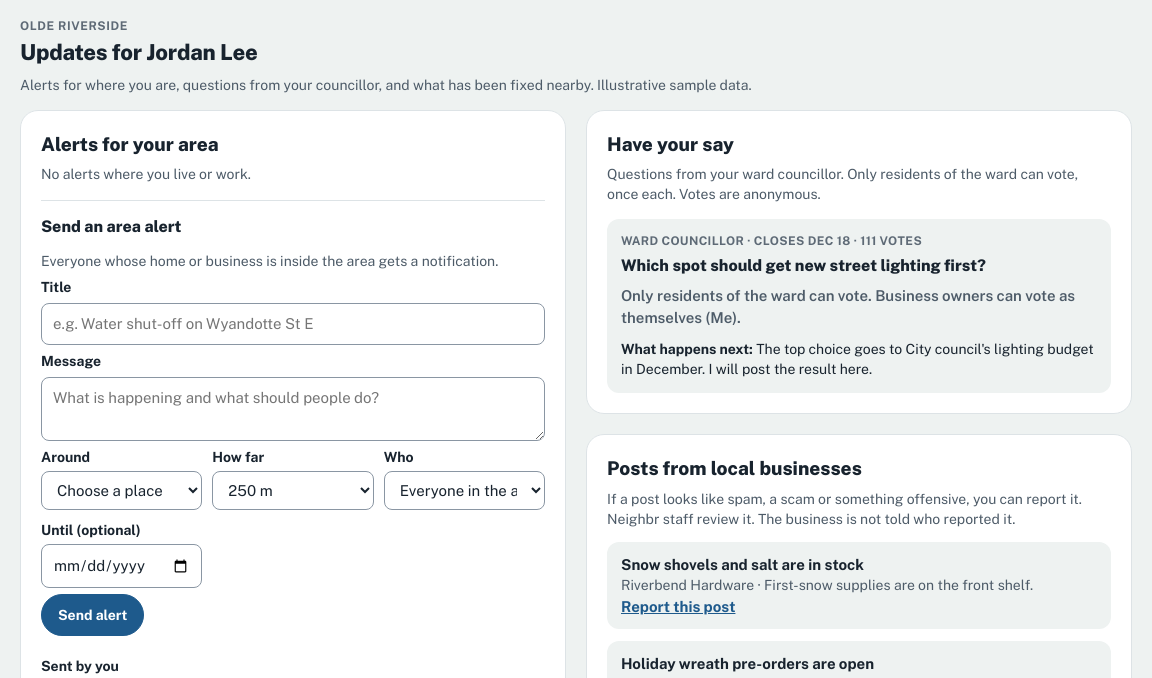
Scenario: Updates page › the City lead sends an area alert and sees how many it reaches
The image size is (1152, 678).
Expected: the heading "Send an area alert" is shown, [41, 217, 181, 236]
Type "Water shut-off" into the field labelled "Title".
click(293, 324); type("Water shut-off")  # box [41, 303, 545, 345]
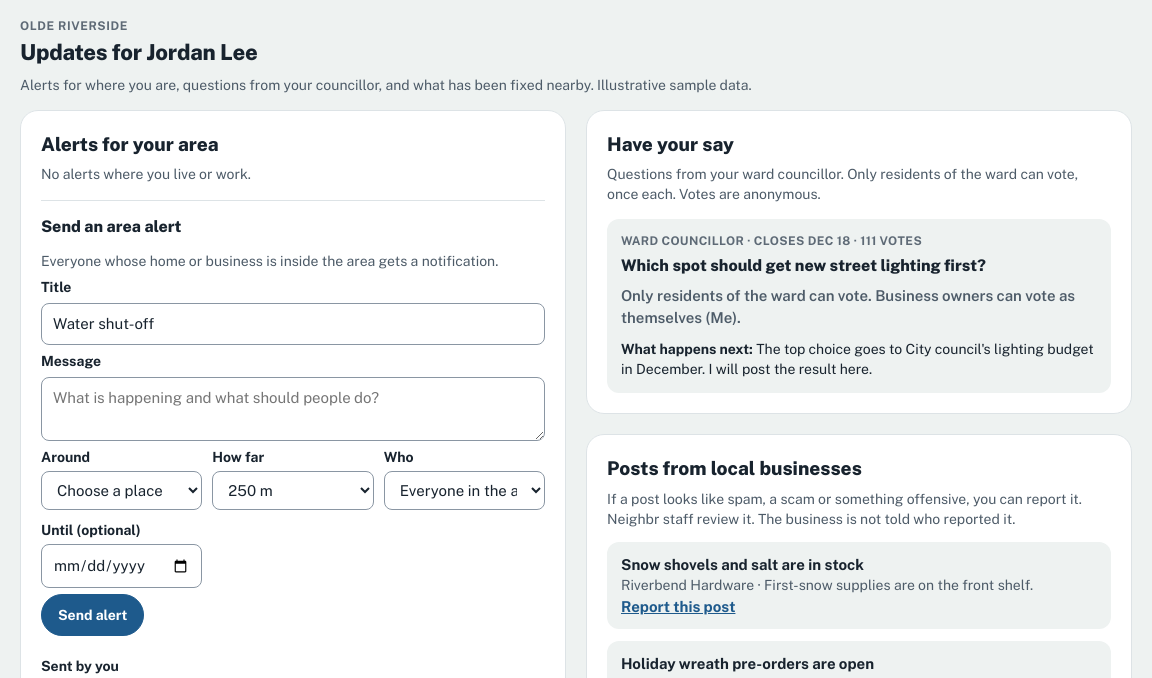
Type "No water from 9 am to 2 pm for repairs." into the text box labelled "Message".
click(293, 409); type("No water from 9 am to 2 pm for repairs.")  # box [41, 377, 545, 441]
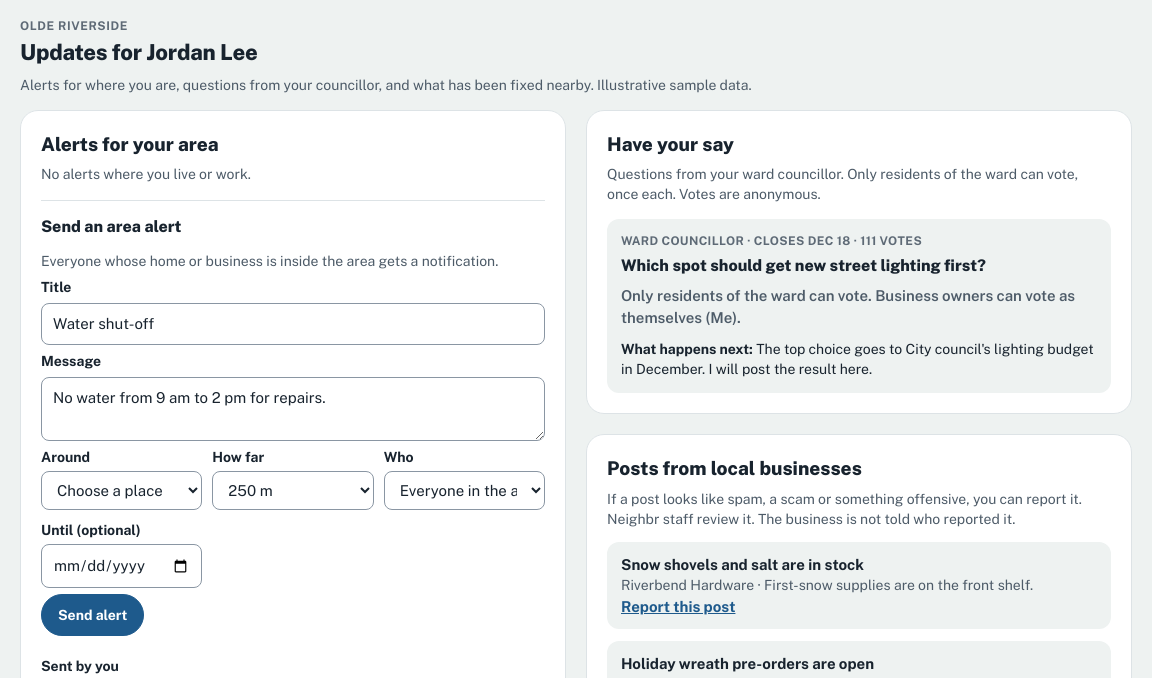
Select "Second Spin Cycles" in the dropdown labelled "Around" at (122,490), box [41, 471, 202, 510]
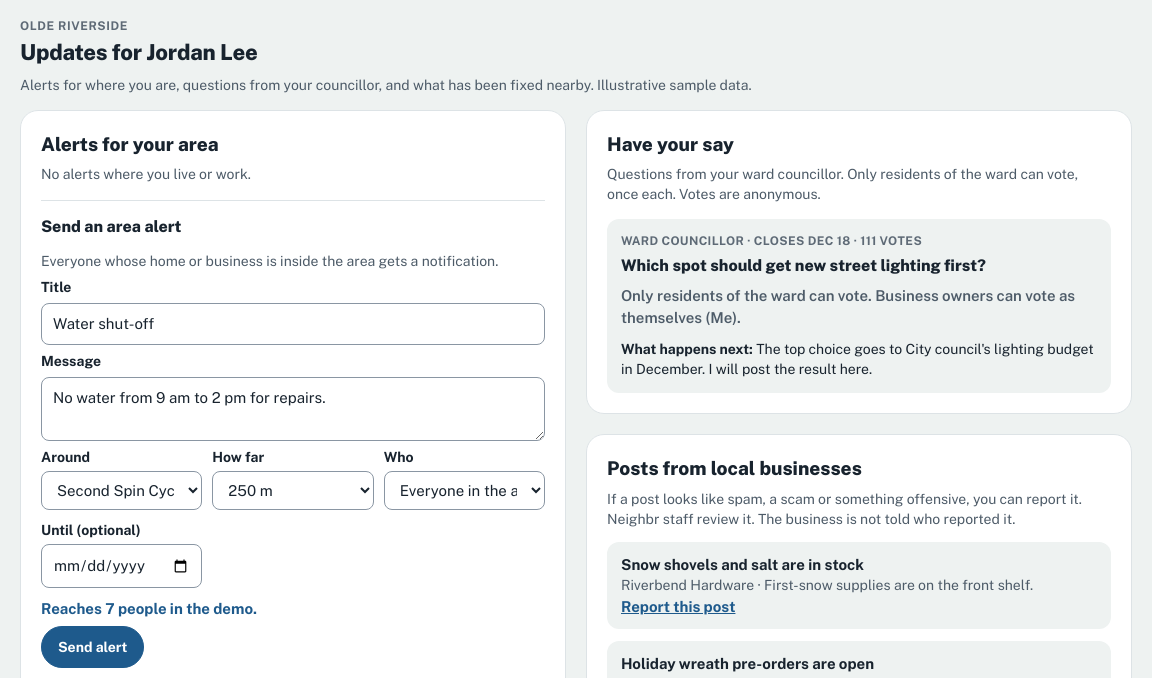
Now the text "Reaches 7 people in the demo." is shown, box [41, 600, 257, 617]
Click the button "Send alert".
click(93, 647)  # box [41, 626, 144, 668]
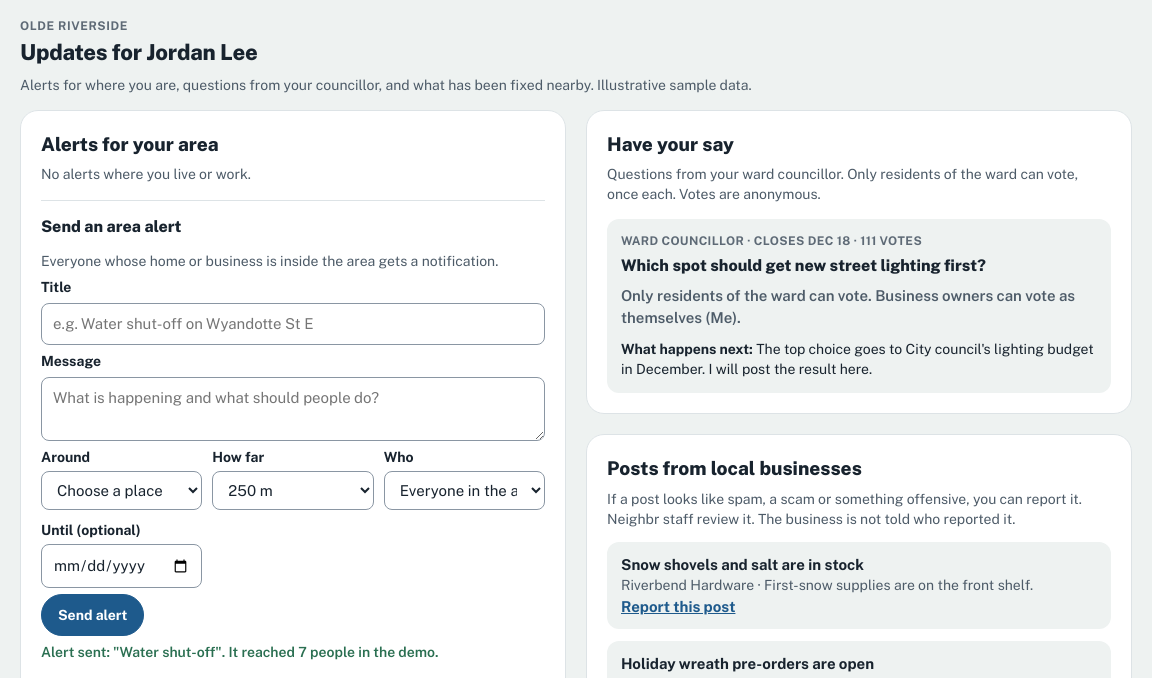
Now the text "Alert sent: \"Water shut-off\"" is shown, box [41, 644, 439, 660]
